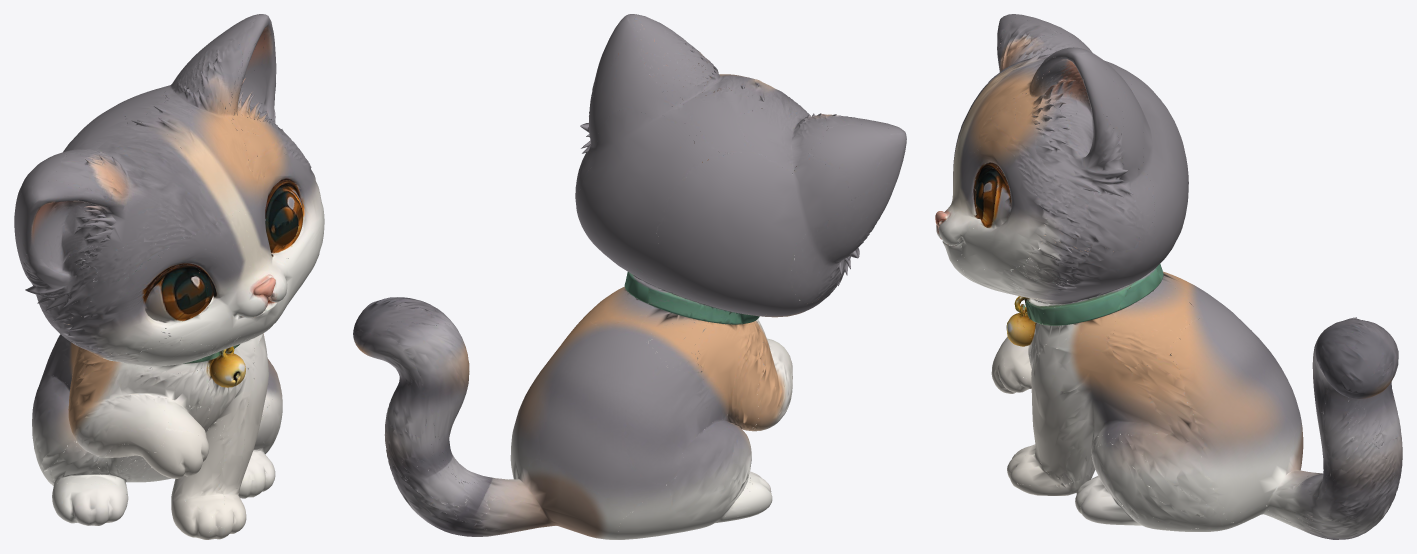
File: character.glb
3 views of the same model, side by side, from view 1: azimuth 30°, elevation 25°; view 2: azimuth 150°, elevation 25°; view 3: azimuth 270°, elevation 25° (orthographic). The views are drawn at different scales.
Parts seen in each view (by area): view 1: Object_4; view 2: Object_4; view 3: Object_4.
Part boxes in pixels (left/top/right/bottom): Object_4: left=14, top=14, right=324, bottom=539; Object_4: left=353, top=14, right=906, bottom=539; Object_4: left=935, top=14, right=1402, bottom=539.
Size of the model in its own units: 0.8242 by 0.9055 by 0.8226.
Materials: 1 (1 with a texture image).
